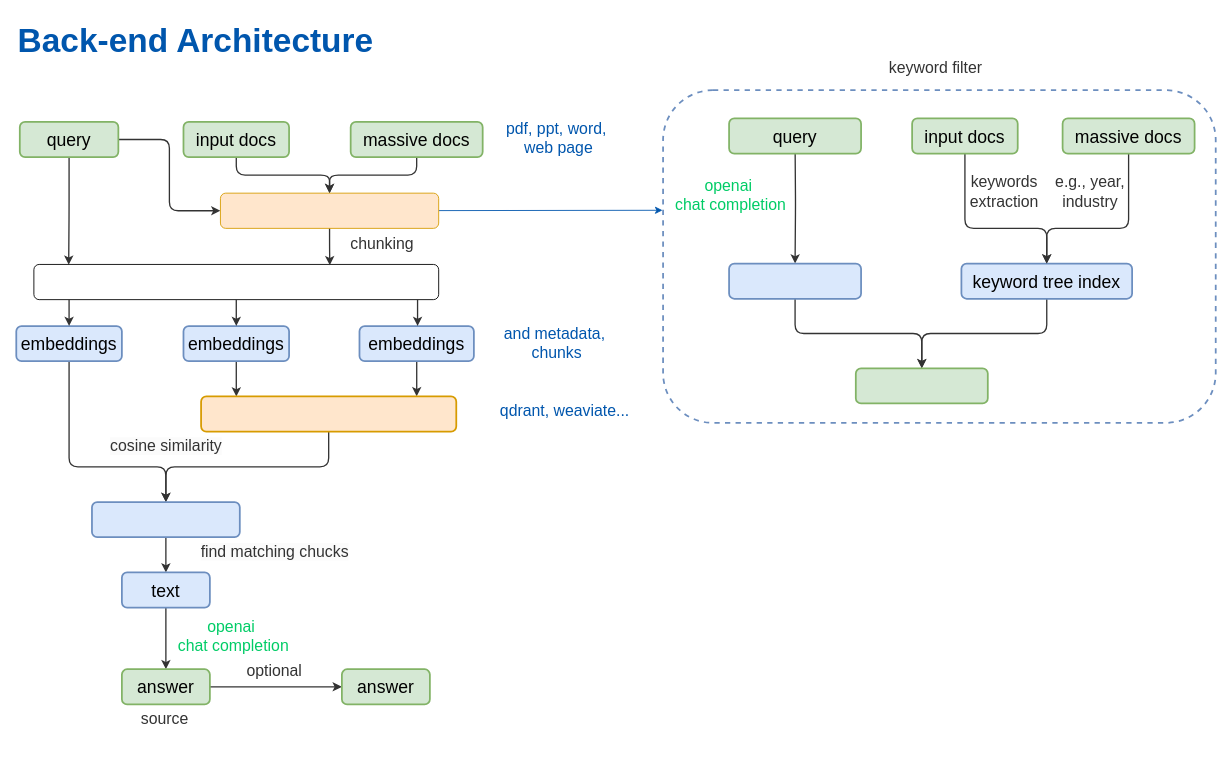
This 1231x763 diagram has some shape labels left out. Each missing label, with the centre of its shape:
filtered docs: the point at 921,385
keyword filter (optional): the point at 329,210
openai embedding / other embedding models: the point at 236,282
structured data: the point at 795,280
topK embedding: the point at 165,519
vector database: the point at 328,413
